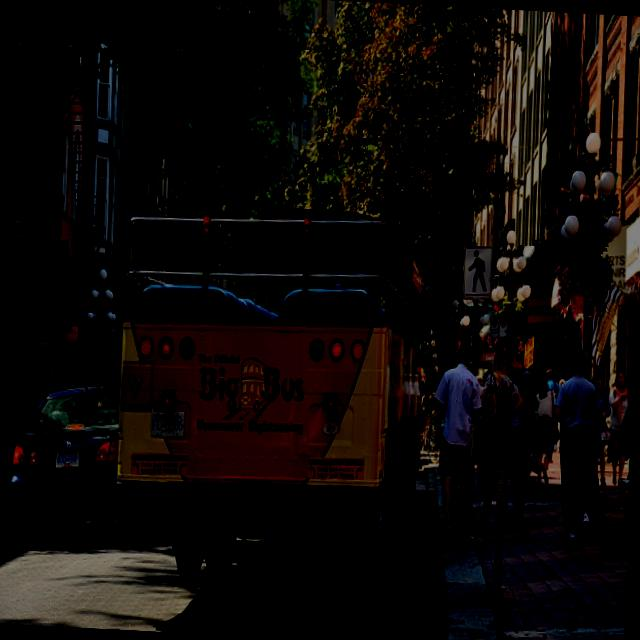Vehicle: (109, 204, 438, 588), (7, 383, 124, 552)
